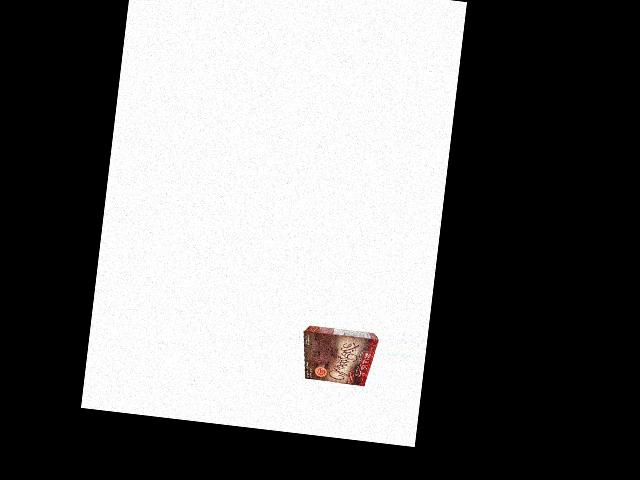chocolate: (297, 325, 377, 388)
